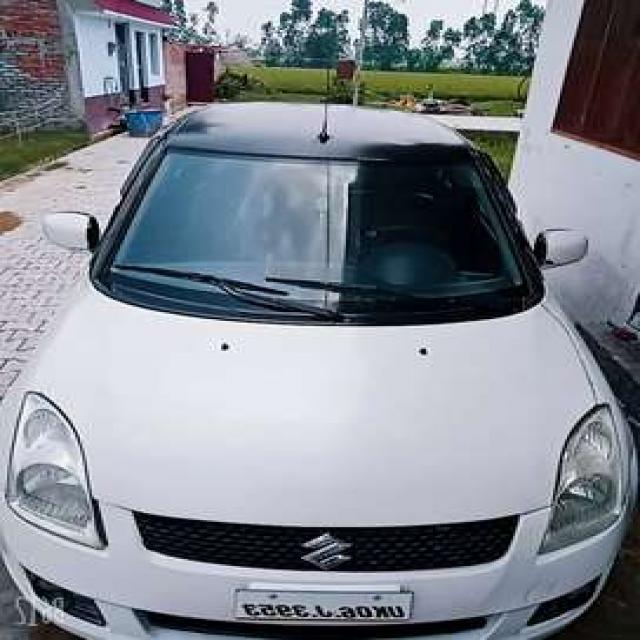license_plate: (227, 585, 420, 632)
